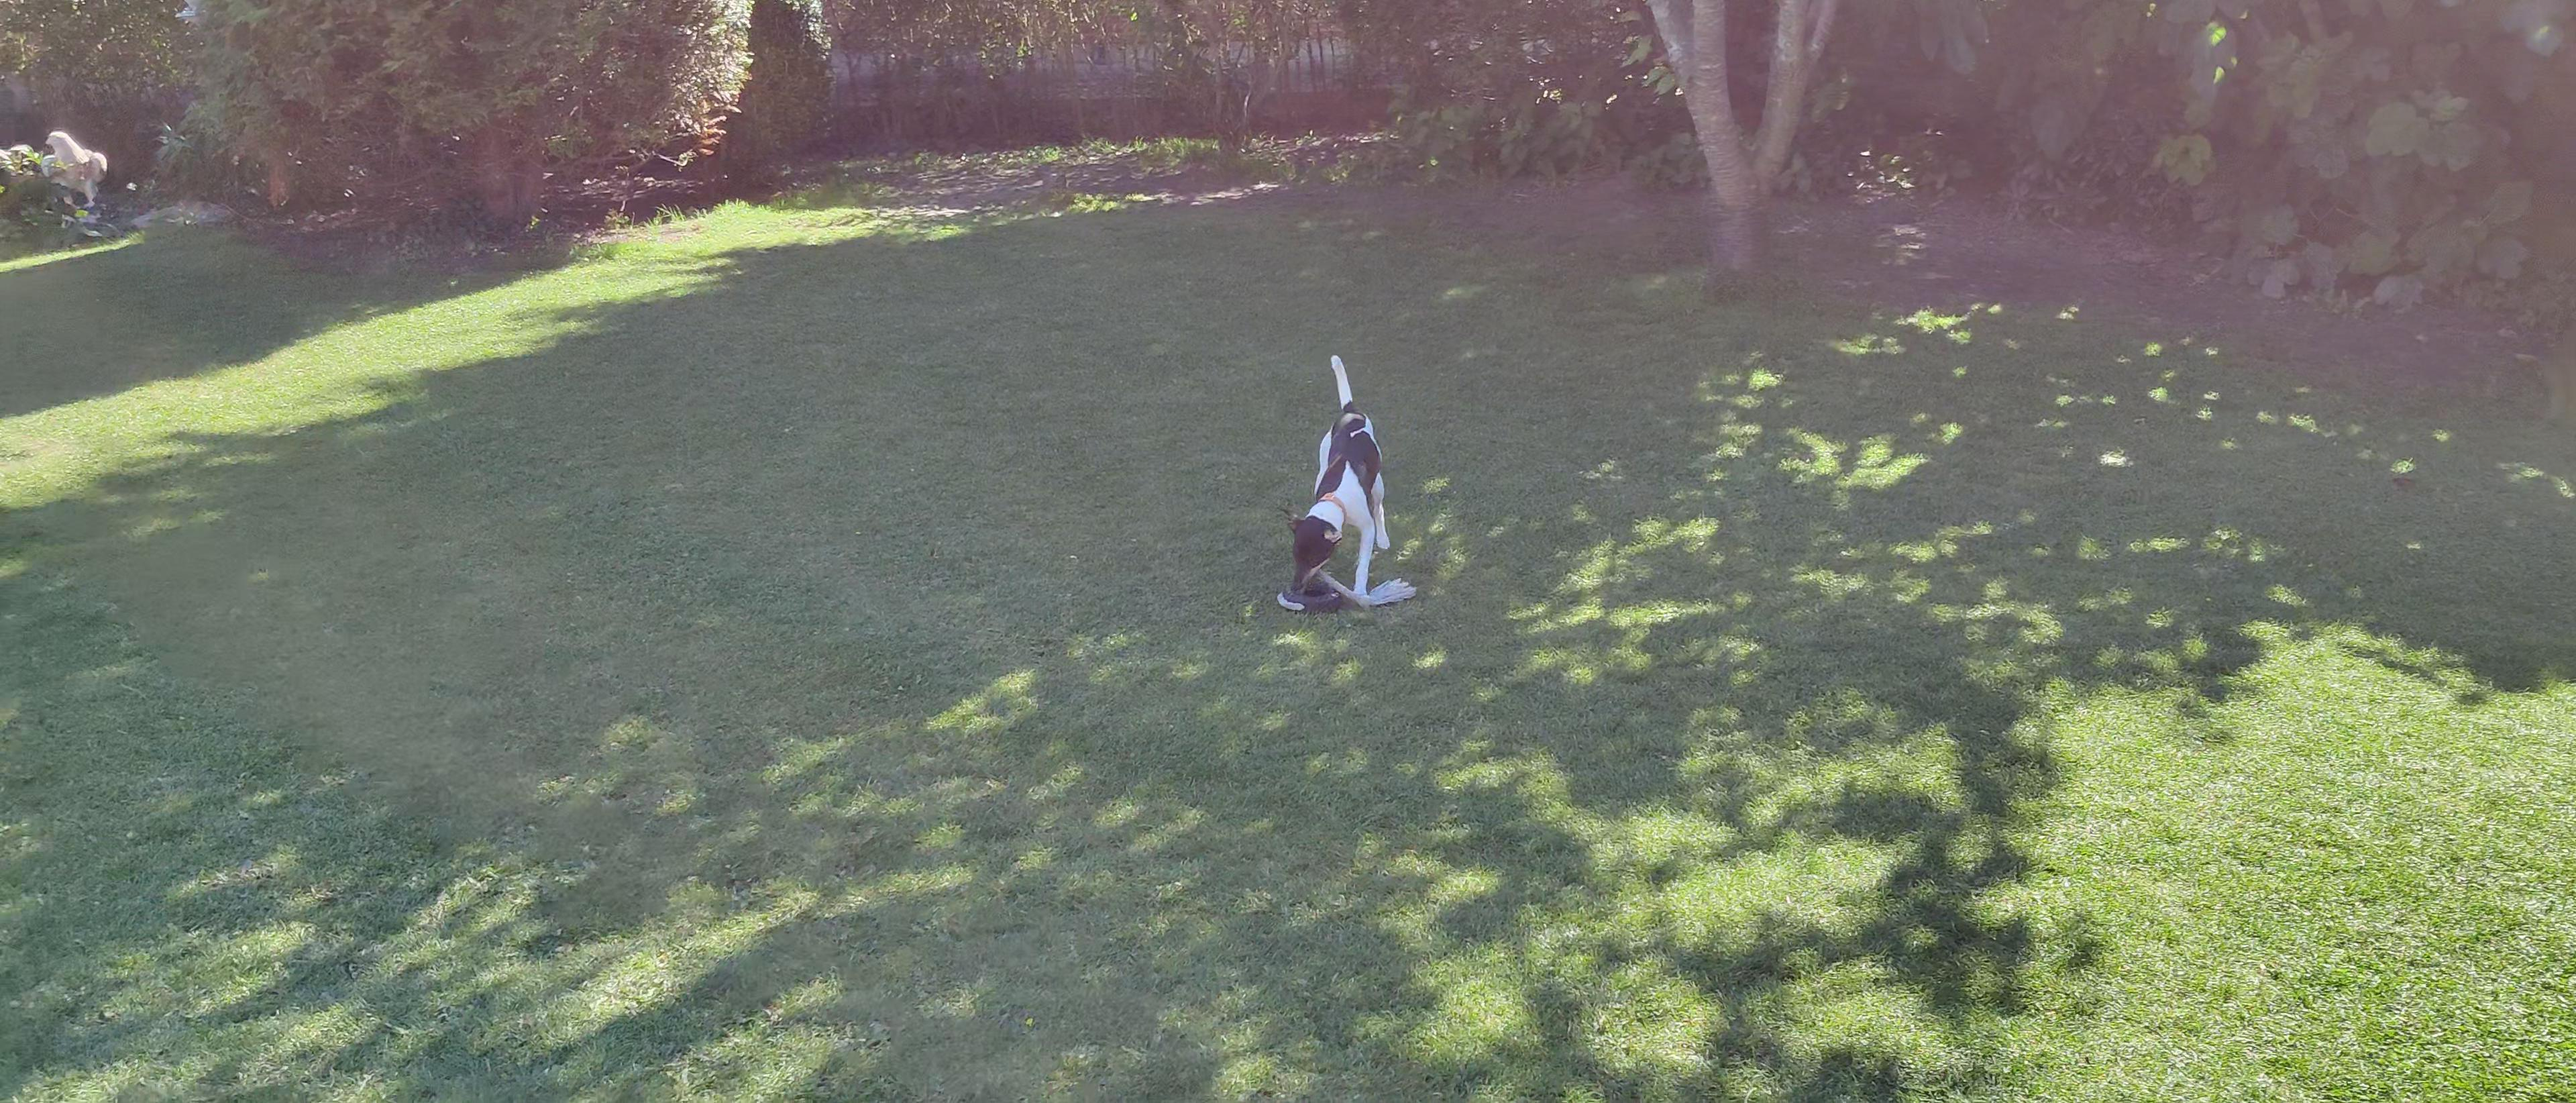Dog: (1267, 340, 1408, 611)
